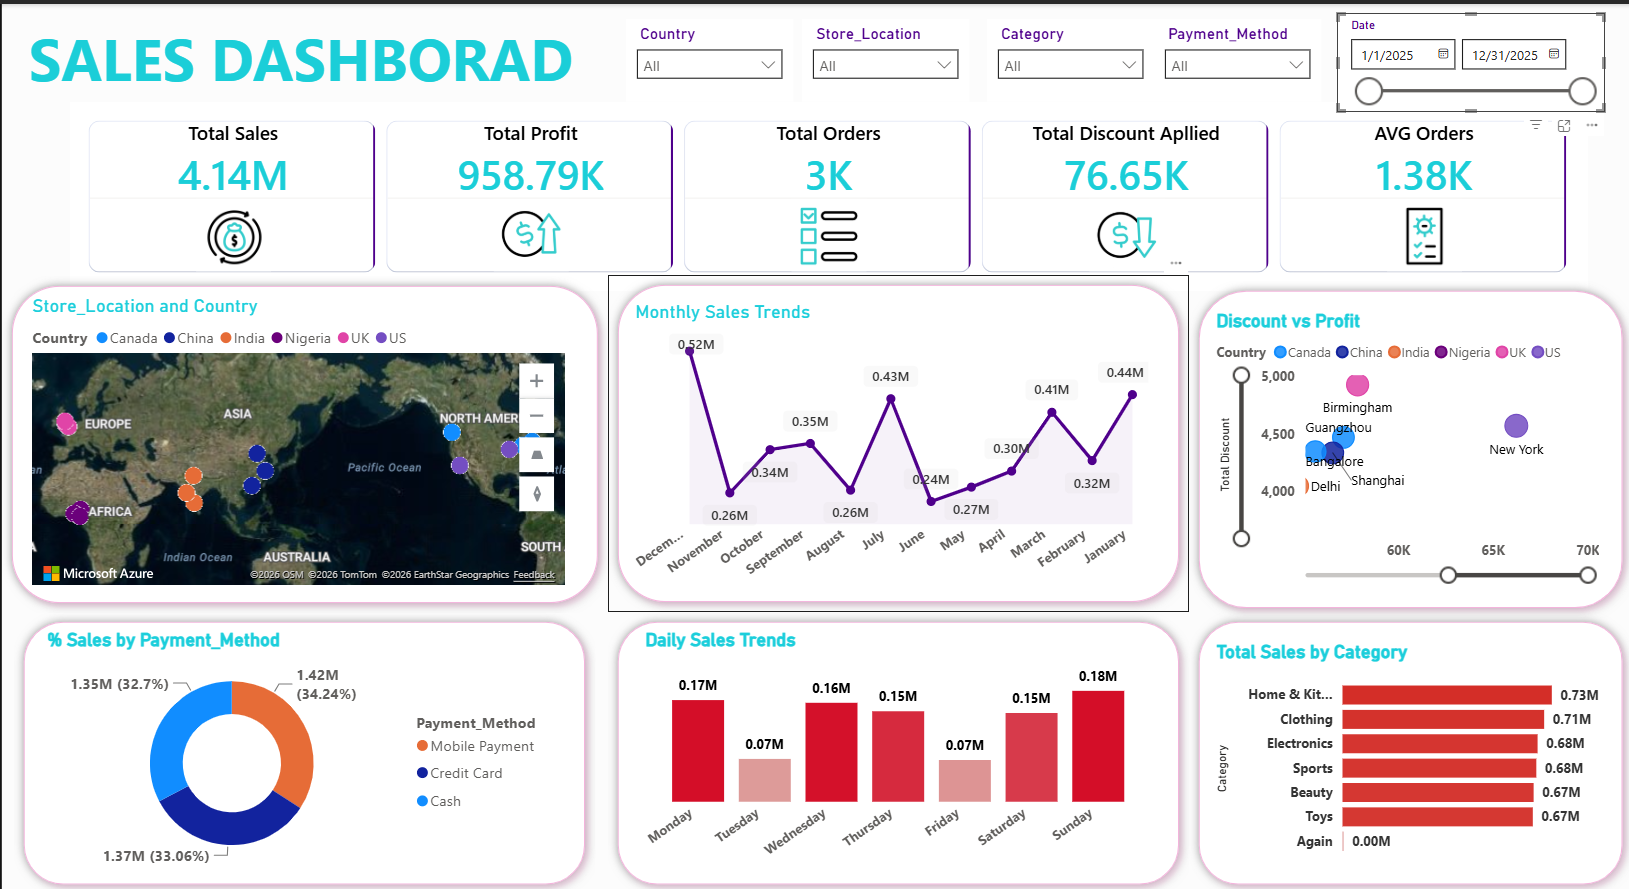

The dashboard page shown, as its layout file describes it:
{"tool":"powerbi","page":{"name":"Page 1","canvas":[1500,820],"ordinal":0},"visuals":[{"type":"cardVisual","fields":{"Data":["Sales Data.Total Sales","Sales Data.Total Profit","Sales Data.Total Orders","Sales Data.Total Discount Apllied","Sales Data.AVG Orders","select"]},"box":[62.7,90,1397.4,174.4],"z":0},{"type":"textbox","box":[12.5,8,524.3,82.1],"z":1000},{"type":"slicer","fields":{"Values":["Sales Data.Country"]},"box":[574.5,13.7,153.9,76.4],"z":2000},{"type":"slicer","fields":{"Values":["Sales Data.Store_Location"]},"box":[736.3,13.7,153.9,76.4],"z":3000},{"type":"slicer","fields":{"Values":["Sales Data.Category"]},"box":[906.2,13.7,153.9,76.4],"z":4000},{"type":"shape","box":[0,250.8,557.4,310],"z":5000},{"type":"slicer","fields":{"Values":["Sales Data.Payment_Method"]},"box":[1060,13.7,153.9,76.4],"z":6000},{"type":"slicer","fields":{"Values":["Sales Data.Date"]},"box":[1228.7,8,246.2,91.2],"z":7000},{"type":"azureMap","fields":{"Category":["Sales Data.Store_Location"],"Series":["Sales Data.Country"]},"box":[22.8,267.9,500.4,272.4],"z":8000},{"type":"shape","box":[557.4,249.6,534.6,310],"z":9000},{"type":"areaChart","title":"Monthly Sales Trends","fields":{"Category":["Sales Data.Month Name"],"Y":["Sales Data.Total Sales"]},"box":[577.9,273.6,482.1,272.4],"z":10000},{"type":"shape","box":[557.4,559.7,534.6,259.9],"z":11000},{"type":"columnChart","title":"Daily Sales Trends","fields":{"Category":["Sales Data.Day Name"],"Y":["Sales Data.Total Profit"]},"box":[587,575.6,476.4,228],"z":12000},{"type":"shape","box":[11.4,559.7,534.6,259.9],"z":13000},{"type":"donutChart","title":"% Sales by Payment_Method","fields":{"Category":["Sales Data.Payment_Method"],"Y":["Sales Data.Total Sales"]},"box":[36.5,575.6,475.3,228],"z":14000},{"type":"shape","box":[1091.9,255.3,408.1,310],"z":15000},{"type":"scatterChart","title":"Discount vs Profit","fields":{"X":["Sales Data.Total Profit"],"Y":["Sales Data.Total Discount"],"Category":["Sales Data.Store_Location"],"Series":["Sales Data.Country"],"Size":["Sales Data.Total Orders"]},"box":[1112.5,281.5,362.5,255.3],"z":16000},{"type":"shape","box":[1091.9,559.7,408.1,259.9],"z":17000},{"type":"barChart","fields":{"Category":["Sales Data.Category"],"Y":["Sales Data.Total Sales"]},"box":[1120.9,585.3,362.6,207.1],"z":17001}]}

Visuals, with their boxes in screenshot pixels (x1, y1, x2, y2), scaled from the page's 1500x820 canvas onto the 1629x889 screenshot:
cardVisual - Sales Data.Total Sales x Sales Data.Total Profit: (left=68, top=98, right=1586, bottom=287)
textbox: (left=14, top=9, right=583, bottom=98)
slicer - Sales Data.Country: (left=624, top=15, right=791, bottom=98)
slicer - Sales Data.Store_Location: (left=800, top=15, right=967, bottom=98)
slicer - Sales Data.Category: (left=984, top=15, right=1151, bottom=98)
shape: (left=0, top=272, right=605, bottom=608)
slicer - Sales Data.Payment_Method: (left=1151, top=15, right=1318, bottom=98)
slicer - Sales Data.Date: (left=1334, top=9, right=1602, bottom=108)
azureMap - Sales Data.Store_Location x Sales Data.Country: (left=25, top=290, right=568, bottom=586)
shape: (left=605, top=271, right=1186, bottom=607)
"Monthly Sales Trends" areaChart: (left=628, top=297, right=1151, bottom=592)
shape: (left=605, top=607, right=1186, bottom=888)
"Daily Sales Trends" columnChart: (left=637, top=624, right=1155, bottom=871)
shape: (left=12, top=607, right=593, bottom=888)
"% Sales by Payment_Method" donutChart: (left=40, top=624, right=556, bottom=871)
shape: (left=1186, top=277, right=1628, bottom=613)
"Discount vs Profit" scatterChart: (left=1208, top=305, right=1602, bottom=582)
shape: (left=1186, top=607, right=1628, bottom=888)
barChart - Sales Data.Category x Sales Data.Total Sales: (left=1217, top=635, right=1611, bottom=859)
